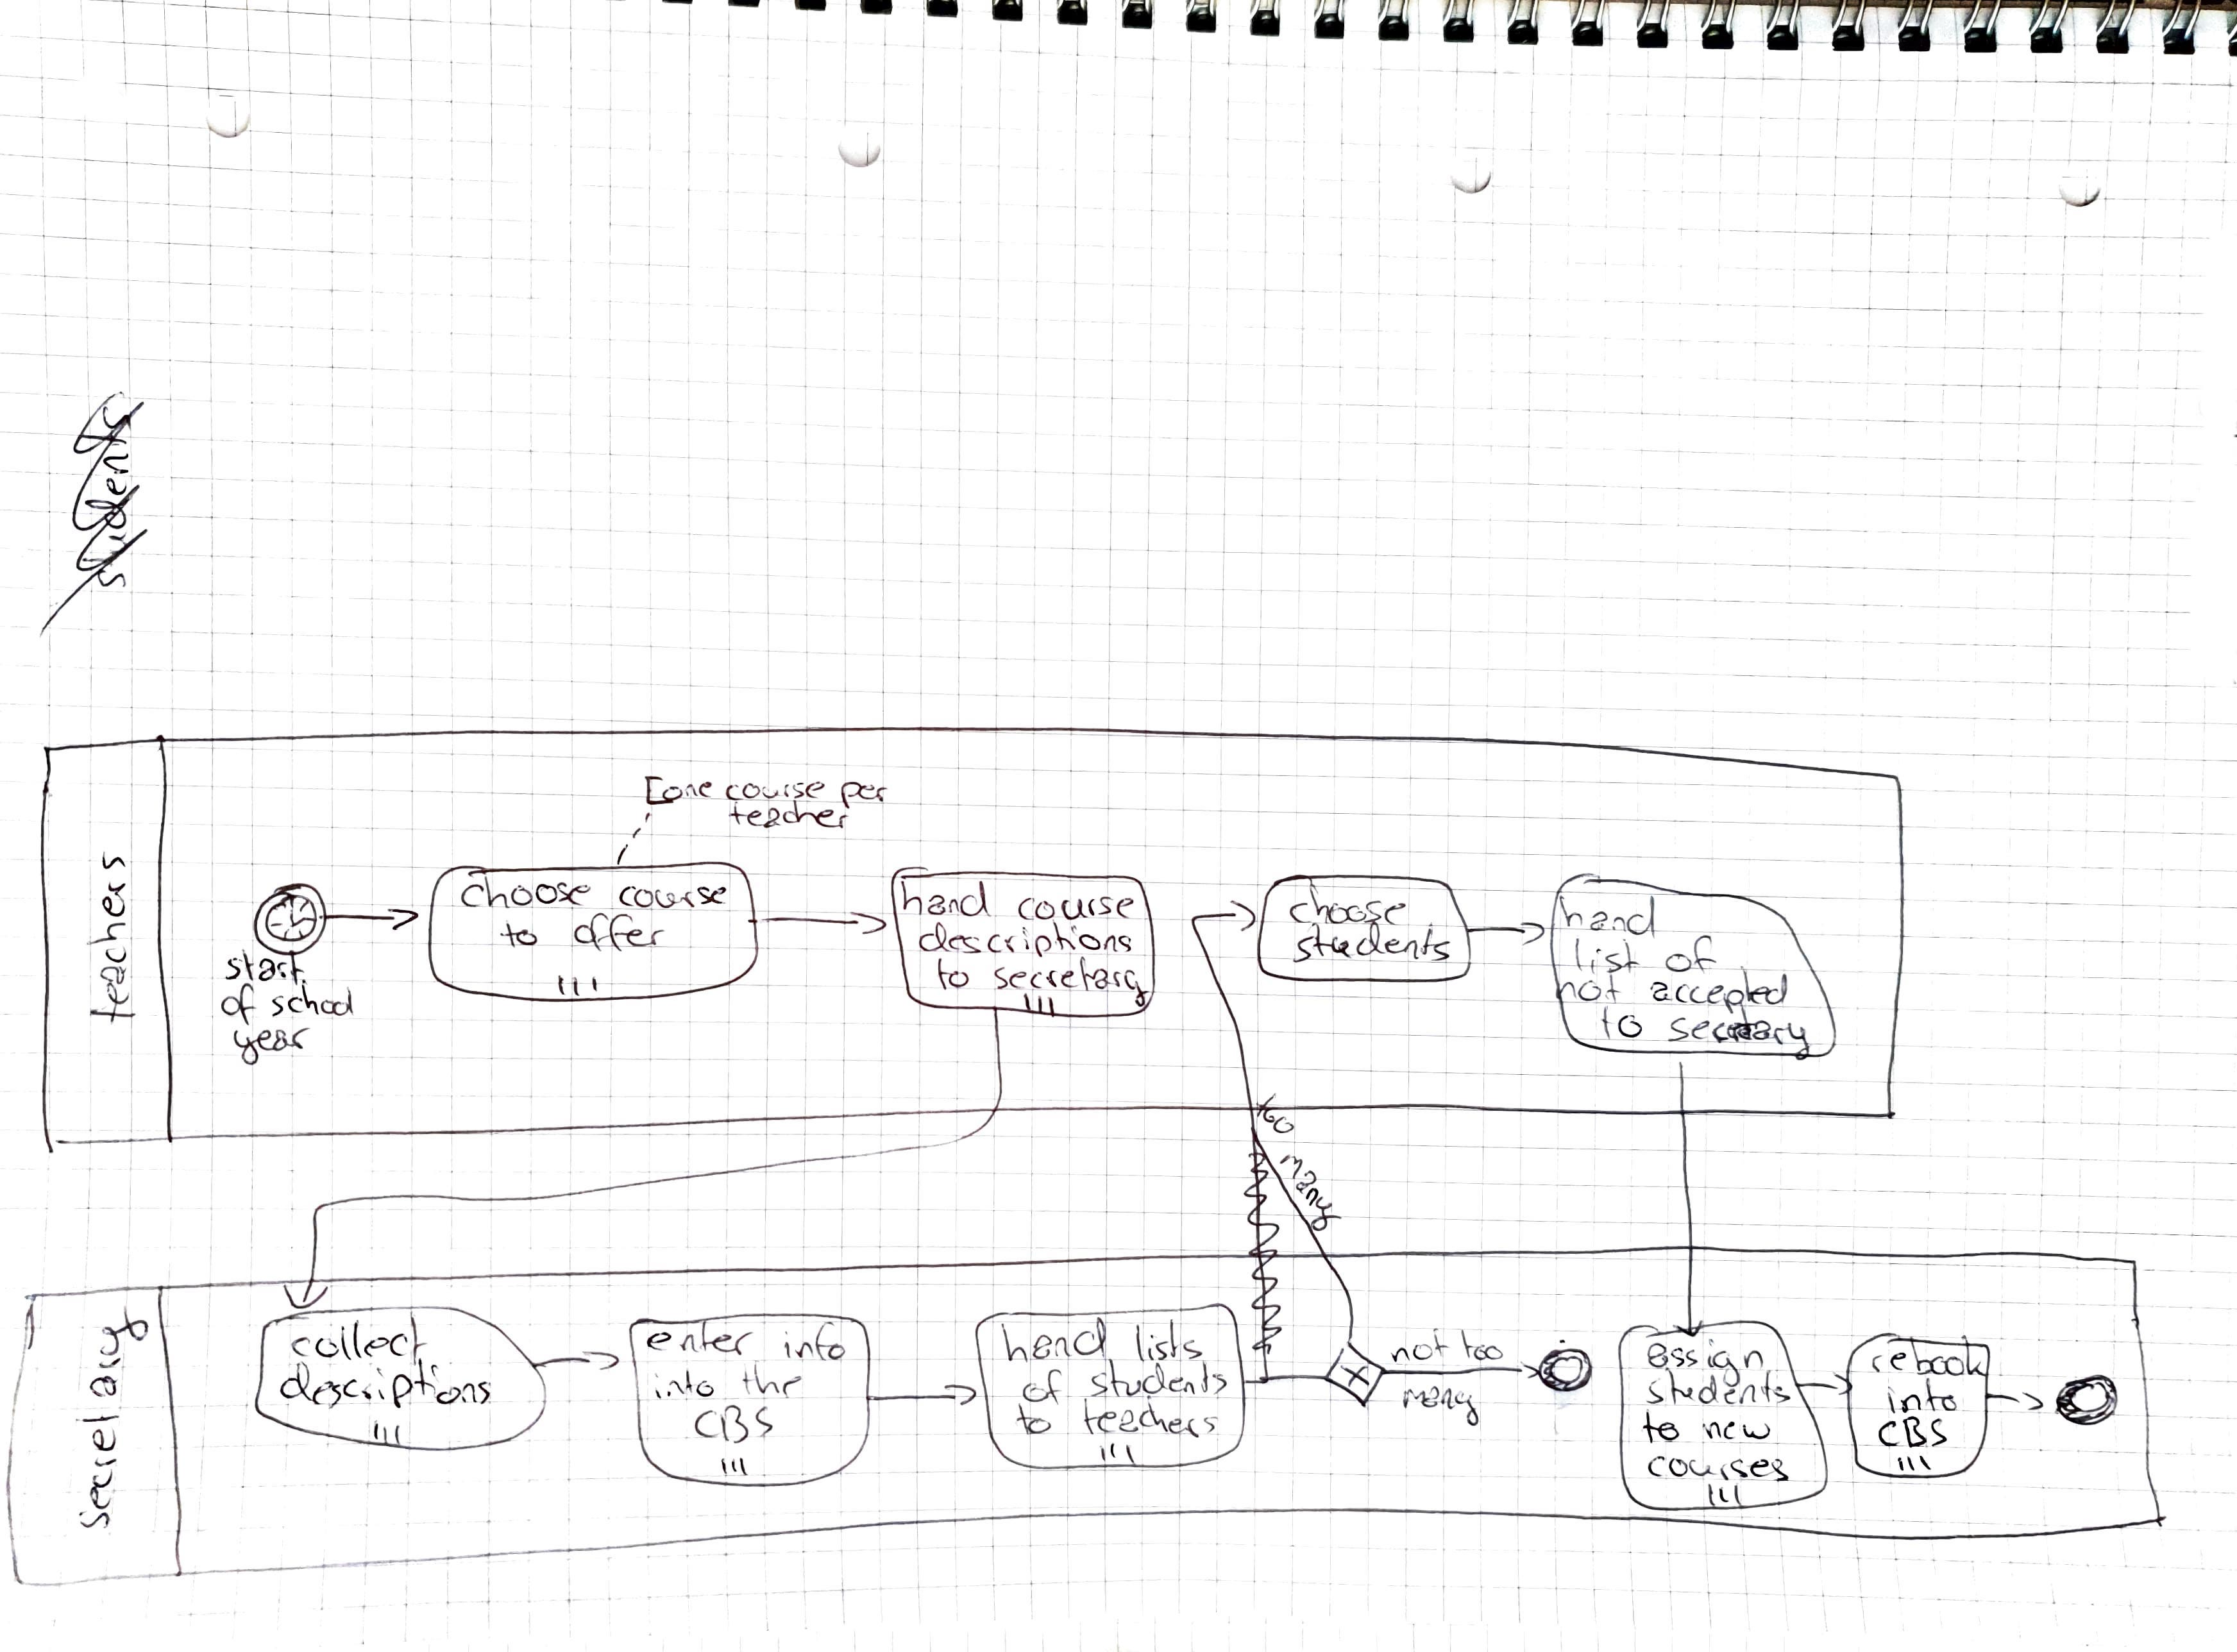CBS: (694, 1403, 776, 1445), (1877, 1416, 1948, 1448)
III: (555, 973, 602, 997), (714, 1451, 750, 1481), (1097, 1440, 1137, 1465), (1022, 989, 1054, 1021), (1705, 1483, 1746, 1508), (366, 1422, 405, 1445), (1893, 1452, 1931, 1476)
[one: (639, 773, 720, 805)
accepted: (1649, 972, 1791, 1010)
assign: (1649, 1337, 1763, 1377)
choose: (1288, 885, 1409, 925), (456, 877, 592, 909)
collect: (291, 1318, 429, 1363)
course: (1016, 896, 1136, 921), (616, 886, 731, 910), (725, 778, 827, 802)
courses: (1647, 1453, 1790, 1485)
descriptions: (275, 1362, 497, 1410), (917, 920, 1132, 959)
enter: (646, 1322, 755, 1356)
hand: (997, 1317, 1111, 1364), (1558, 895, 1661, 938), (899, 882, 991, 918)
info: (779, 1322, 851, 1362)
into: (1886, 1380, 1960, 1414), (650, 1371, 715, 1399)
list: (1573, 936, 1641, 976)
lists: (1133, 1320, 1204, 1361)
many: (1401, 1385, 1480, 1426), (1273, 1161, 1304, 1247)
new: (1702, 1420, 1773, 1440)
not: (1554, 974, 1624, 1003), (1383, 1342, 1446, 1370)
of: (1666, 934, 1718, 977), (218, 985, 260, 1025), (1023, 1370, 1066, 1406)
offer: (570, 913, 666, 951)
per: (840, 780, 889, 809)
rebook: (1867, 1339, 1987, 1374)
school: (269, 984, 360, 1020)
secretary: (75, 1310, 151, 1535), (1667, 1011, 1813, 1056), (990, 961, 1149, 995)
start: (224, 954, 305, 987)
students: (1290, 923, 1454, 963), (1088, 1360, 1228, 1397), (1646, 1372, 1791, 1405)
teacher: (725, 802, 850, 833)
teachers: (90, 850, 131, 1025), (1081, 1398, 1220, 1438)
the: (741, 1361, 804, 1402)
to: (1596, 1006, 1647, 1042), (1639, 1410, 1683, 1442), (933, 959, 975, 993), (500, 920, 542, 952), (1015, 1404, 1051, 1437)
too: (1460, 1328, 1507, 1362), (1273, 1088, 1315, 1122)
year: (232, 1026, 311, 1064)
